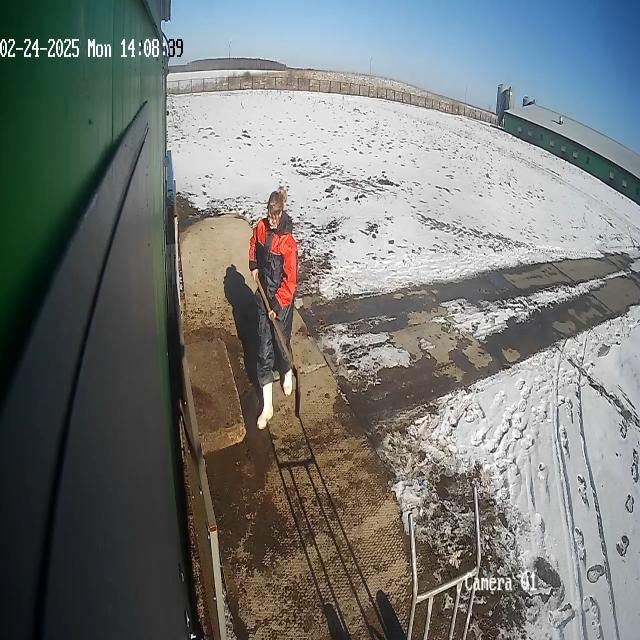Red uniform: (247, 188, 299, 432)
